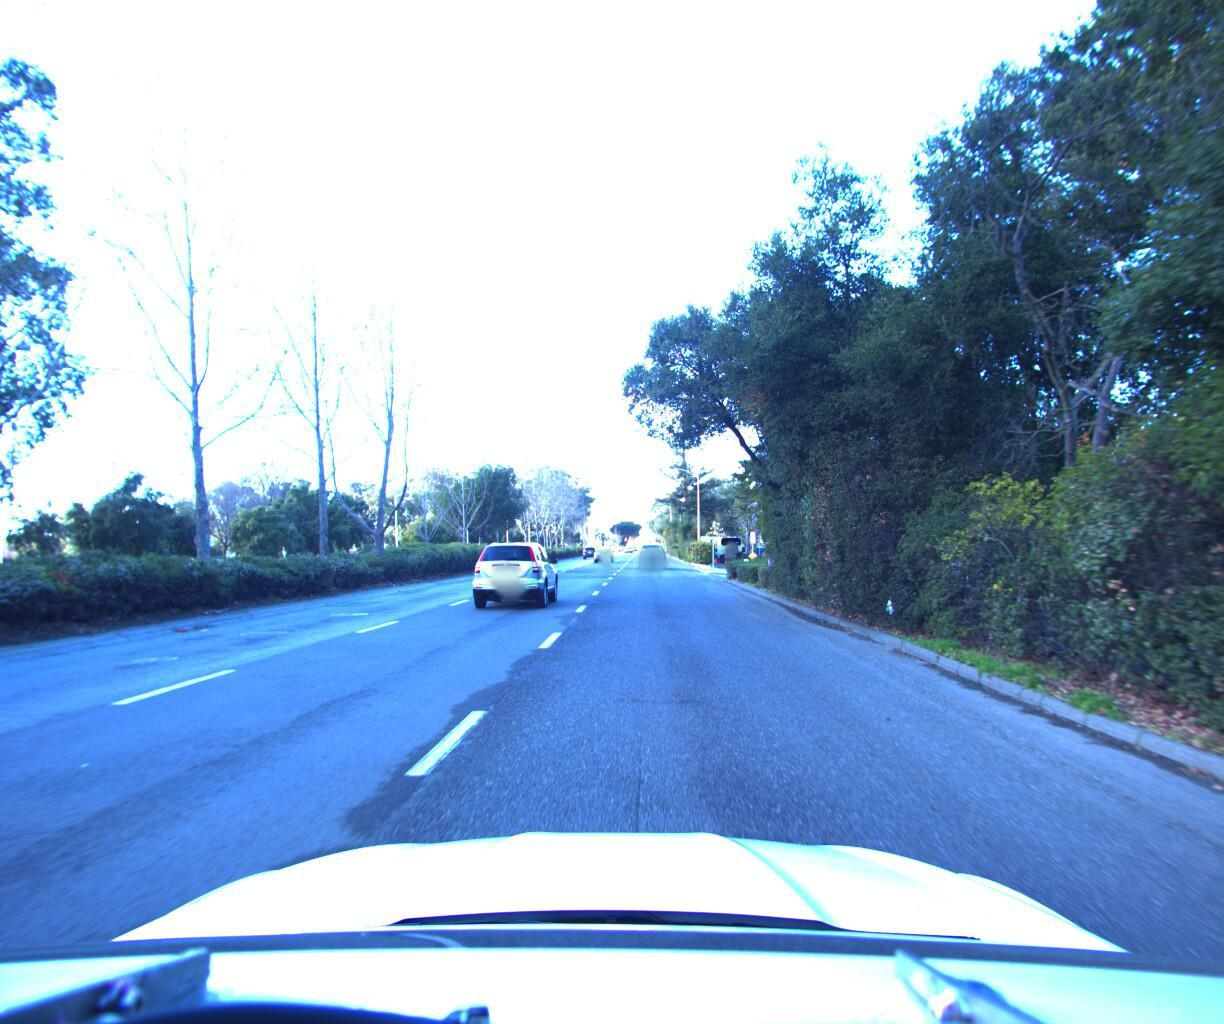car: (465, 533, 562, 609), (633, 537, 668, 565), (590, 541, 612, 557)
